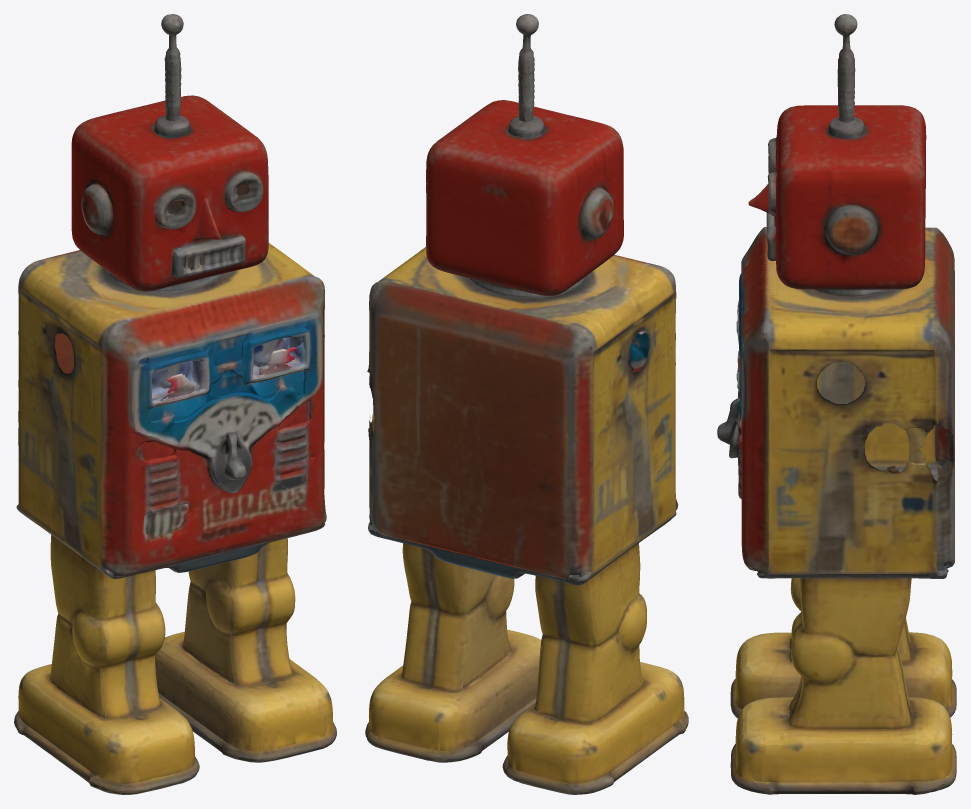
The picture shows the model from 3 angles, left to right: view 1: azimuth 30°, elevation 25°; view 2: azimuth 150°, elevation 25°; view 3: azimuth 270°, elevation 25°; orthographic projection.
Parts seen in each view (by area): view 1: world; view 2: world; view 3: world.
Boxes of the visible parts, x1=… form: world: x1=14, y1=14, x2=336, y2=794; world: x1=365, y1=14, x2=688, y2=794; world: x1=717, y1=14, x2=956, y2=794.
Bounding box in the file's own units: 0.082 × 0.23 × 0.0693.
1 material, 1 textured.
